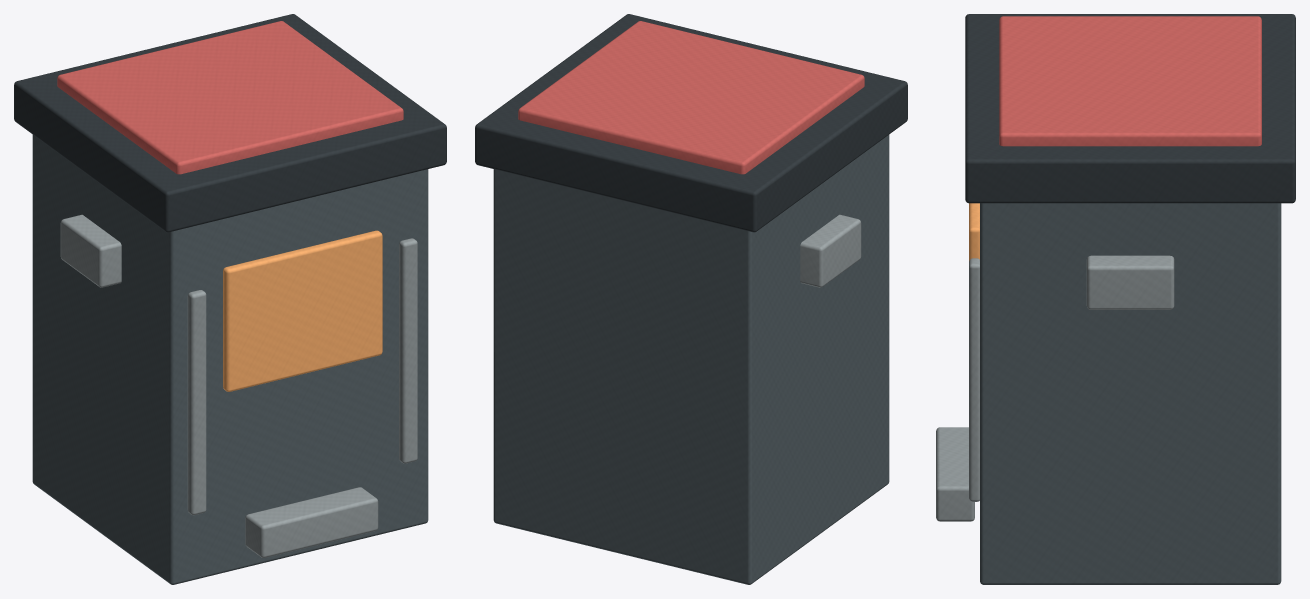
The model's file is BiohazardWasteBin.glb.
3 views of the same model, side by side, from view 1: azimuth 30°, elevation 25°; view 2: azimuth 150°, elevation 25°; view 3: azimuth 270°, elevation 25° (orthographic). The views are drawn at different scales.
Parts seen in each view (by area): view 1: BiohazardWasteBin_Mesh; view 2: BiohazardWasteBin_Mesh; view 3: BiohazardWasteBin_Mesh.
Boxes of the visible parts, x1,y1,x2,y2 form: BiohazardWasteBin_Mesh: (14,14,446,584); BiohazardWasteBin_Mesh: (475,14,907,584); BiohazardWasteBin_Mesh: (936,14,1295,584).
Bounding box in the file's own units: 0.77 × 1.01 × 0.74.
Materials: 5 (5 with a texture image).
